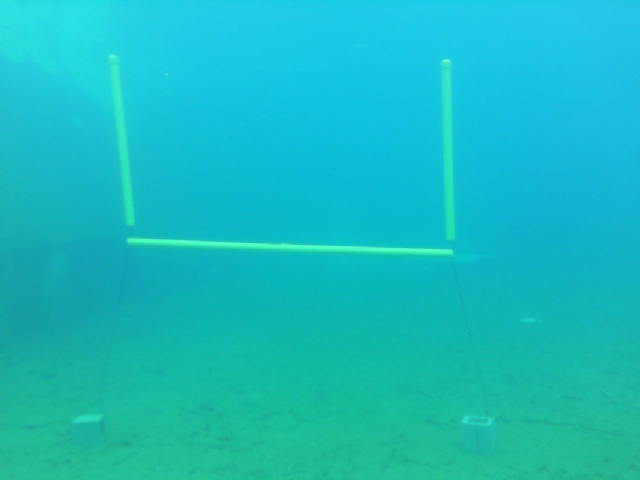channel: (109, 52, 463, 258)
